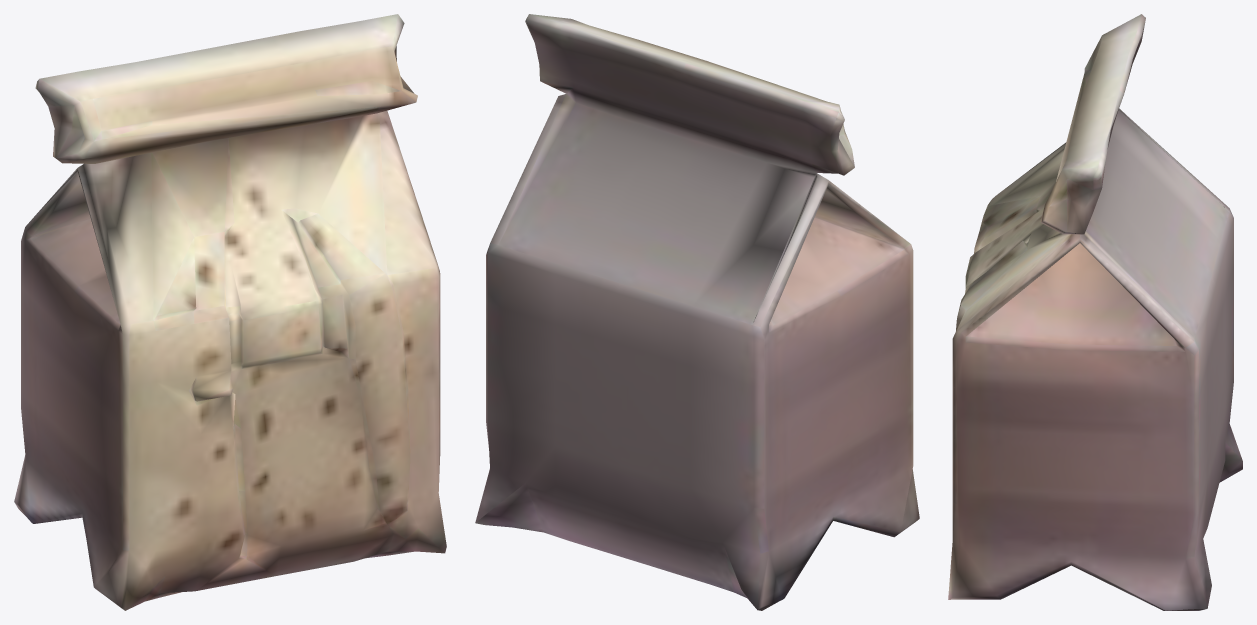
Rendered from lentils.glb.
3 views of the same model, side by side, from view 1: azimuth 30°, elevation 25°; view 2: azimuth 150°, elevation 25°; view 3: azimuth 270°, elevation 25° (orthographic). The views are drawn at different scales.
Visible parts, largest first — view 1: Lentils; view 2: Lentils; view 3: Lentils.
Part boxes in pixels (x1,y1,x2,y2): Lentils: (14,14,446,610); Lentils: (475,14,919,610); Lentils: (948,14,1242,610).
Bounding box in the file's own units: 1.31 × 1.75 × 1.04.
Materials: 1 (1 with a texture image).
